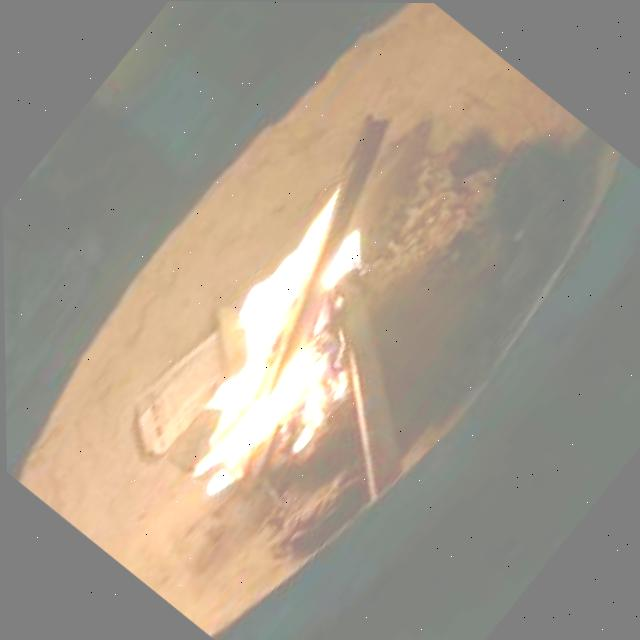Fire: (115, 172, 455, 534)
